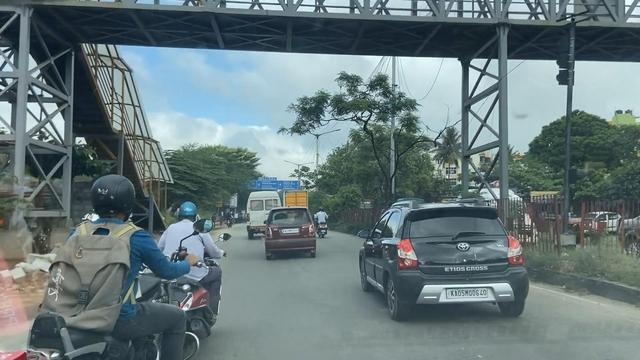LMV: (357, 203, 529, 316), (266, 207, 316, 254), (316, 209, 325, 240)
